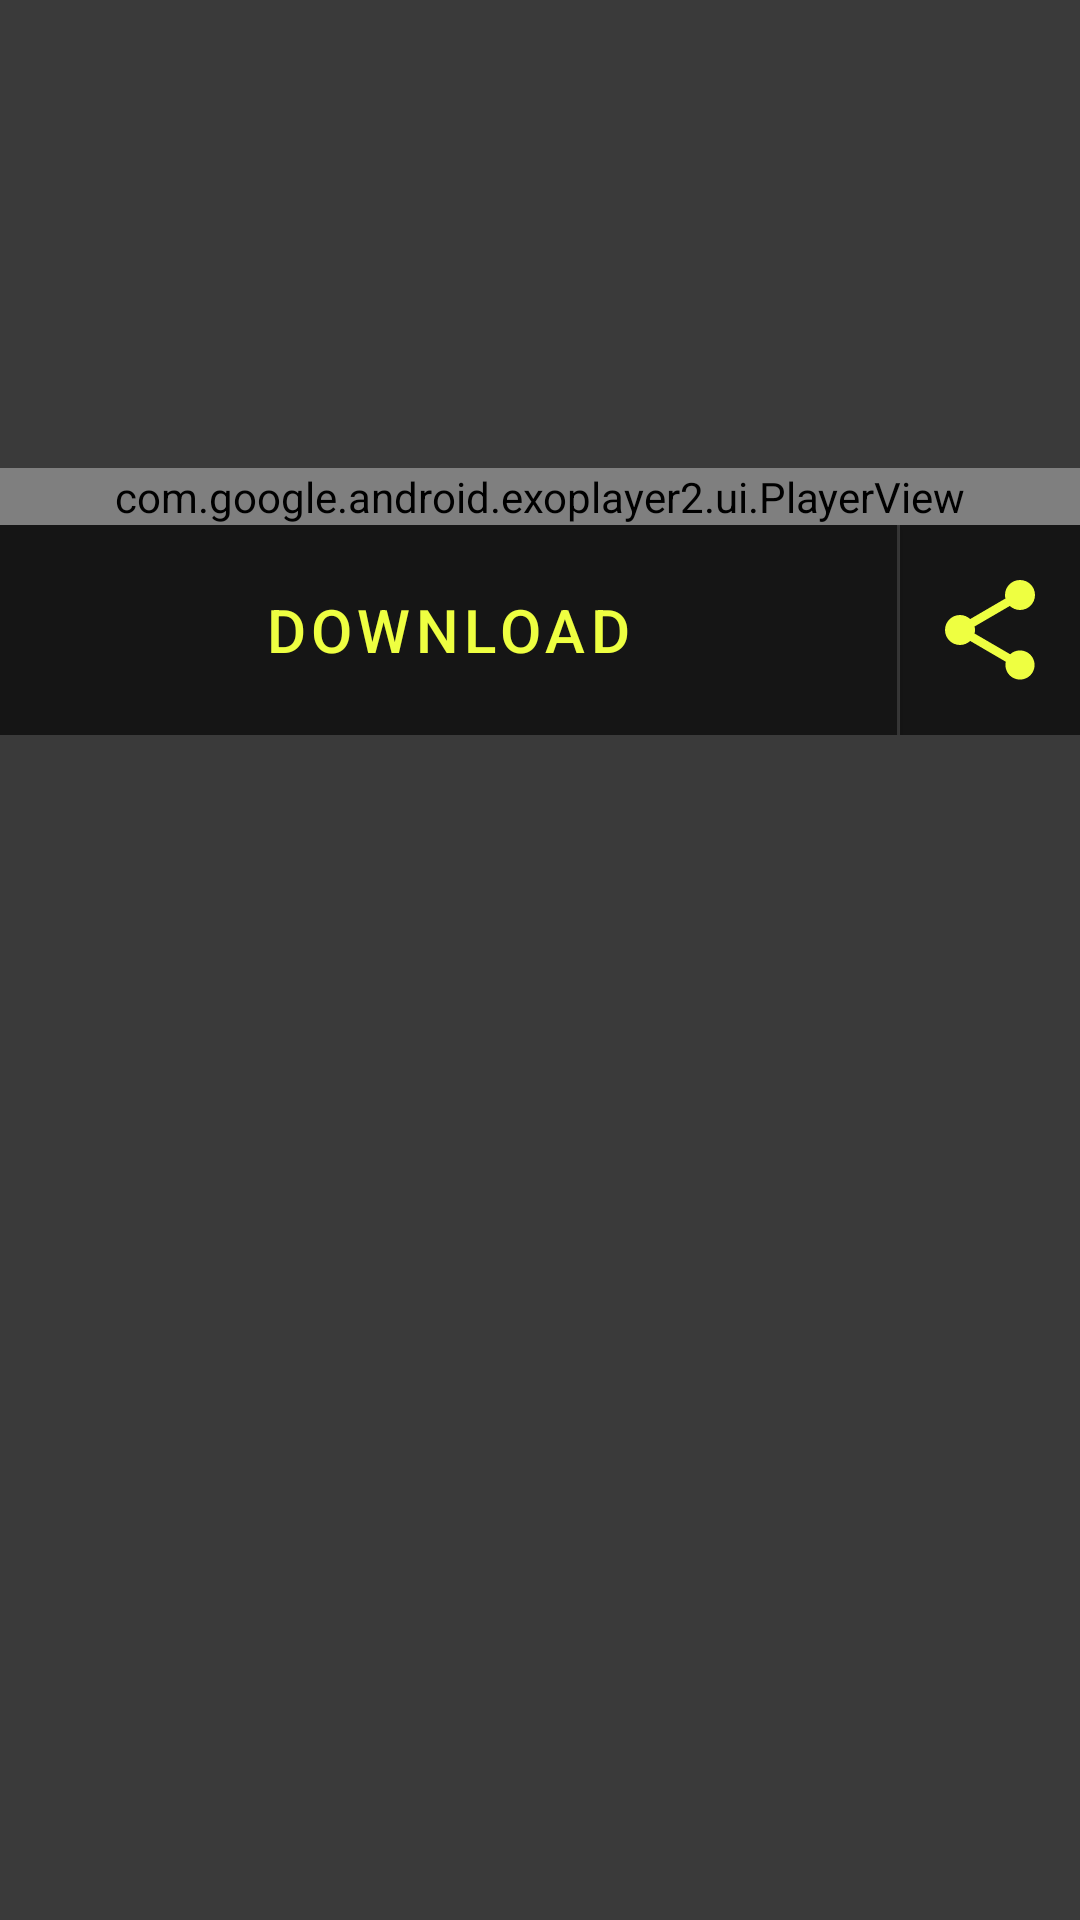

Screen size 1080 × 1920. Icon name, then its center in pixels as [x,y]:
Share button: [990,630]
